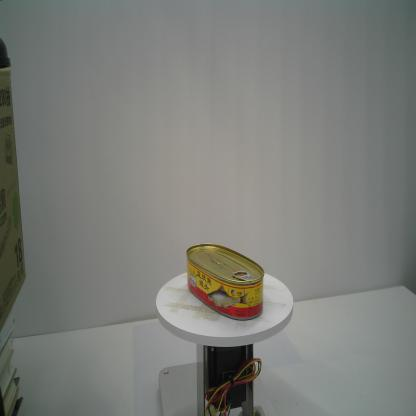Canned Food: (186, 244, 265, 320)
